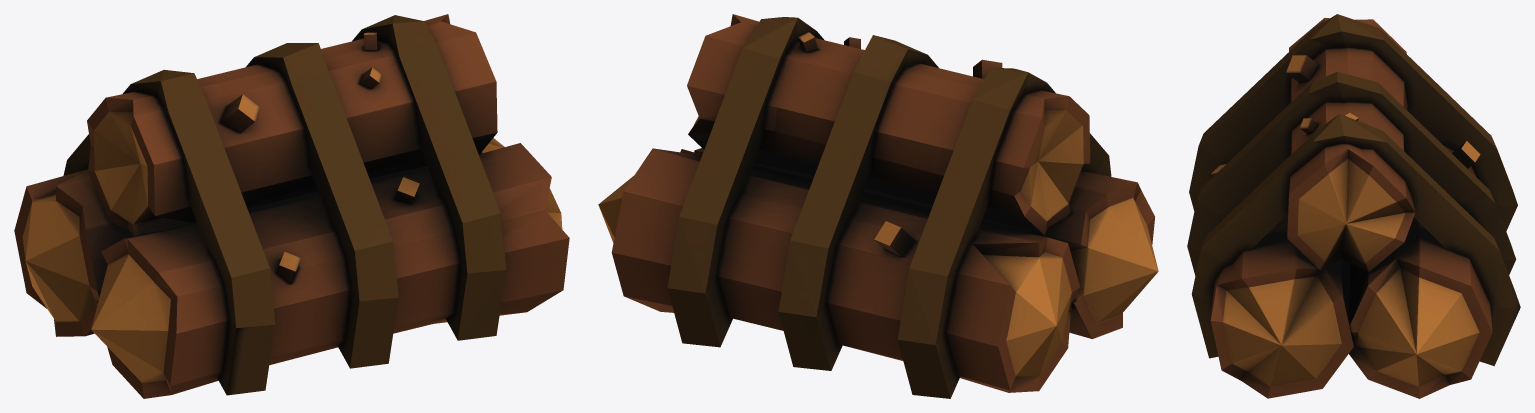
Rendered from Tronc.fbx.
3 renders of one model, left to right at view 1: azimuth 30°, elevation 25°; view 2: azimuth 150°, elevation 25°; view 3: azimuth 270°, elevation 25°, orthographic. The views are drawn at different scales.
Parts seen in each view (by area): view 1: Tronc-rope; view 2: Tronc-rope; view 3: Tronc-rope.
Boxes of the visible parts, bbox=[...] form: Tronc-rope: bbox=[14, 14, 569, 398]; Tronc-rope: bbox=[598, 14, 1158, 398]; Tronc-rope: bbox=[1187, 14, 1520, 398].
Size of the model in its own units: 684 by 365 by 457.
Materials: 2 (2 with a texture image).
